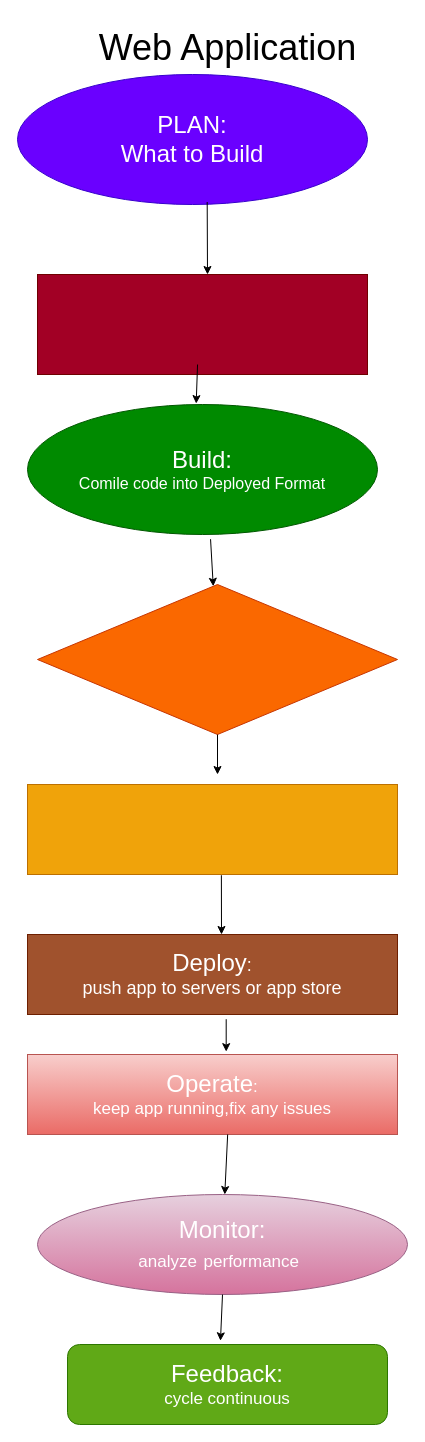
Image size: 425x1442. Some labels were removed from this diagram. Each missing label, with the box of its shape:
Develop : write the code: (36, 274, 368, 374)
Release: Approved the Build for Deployment: (26, 784, 398, 874)
Test: check for bugs automatically: (36, 584, 398, 734)
